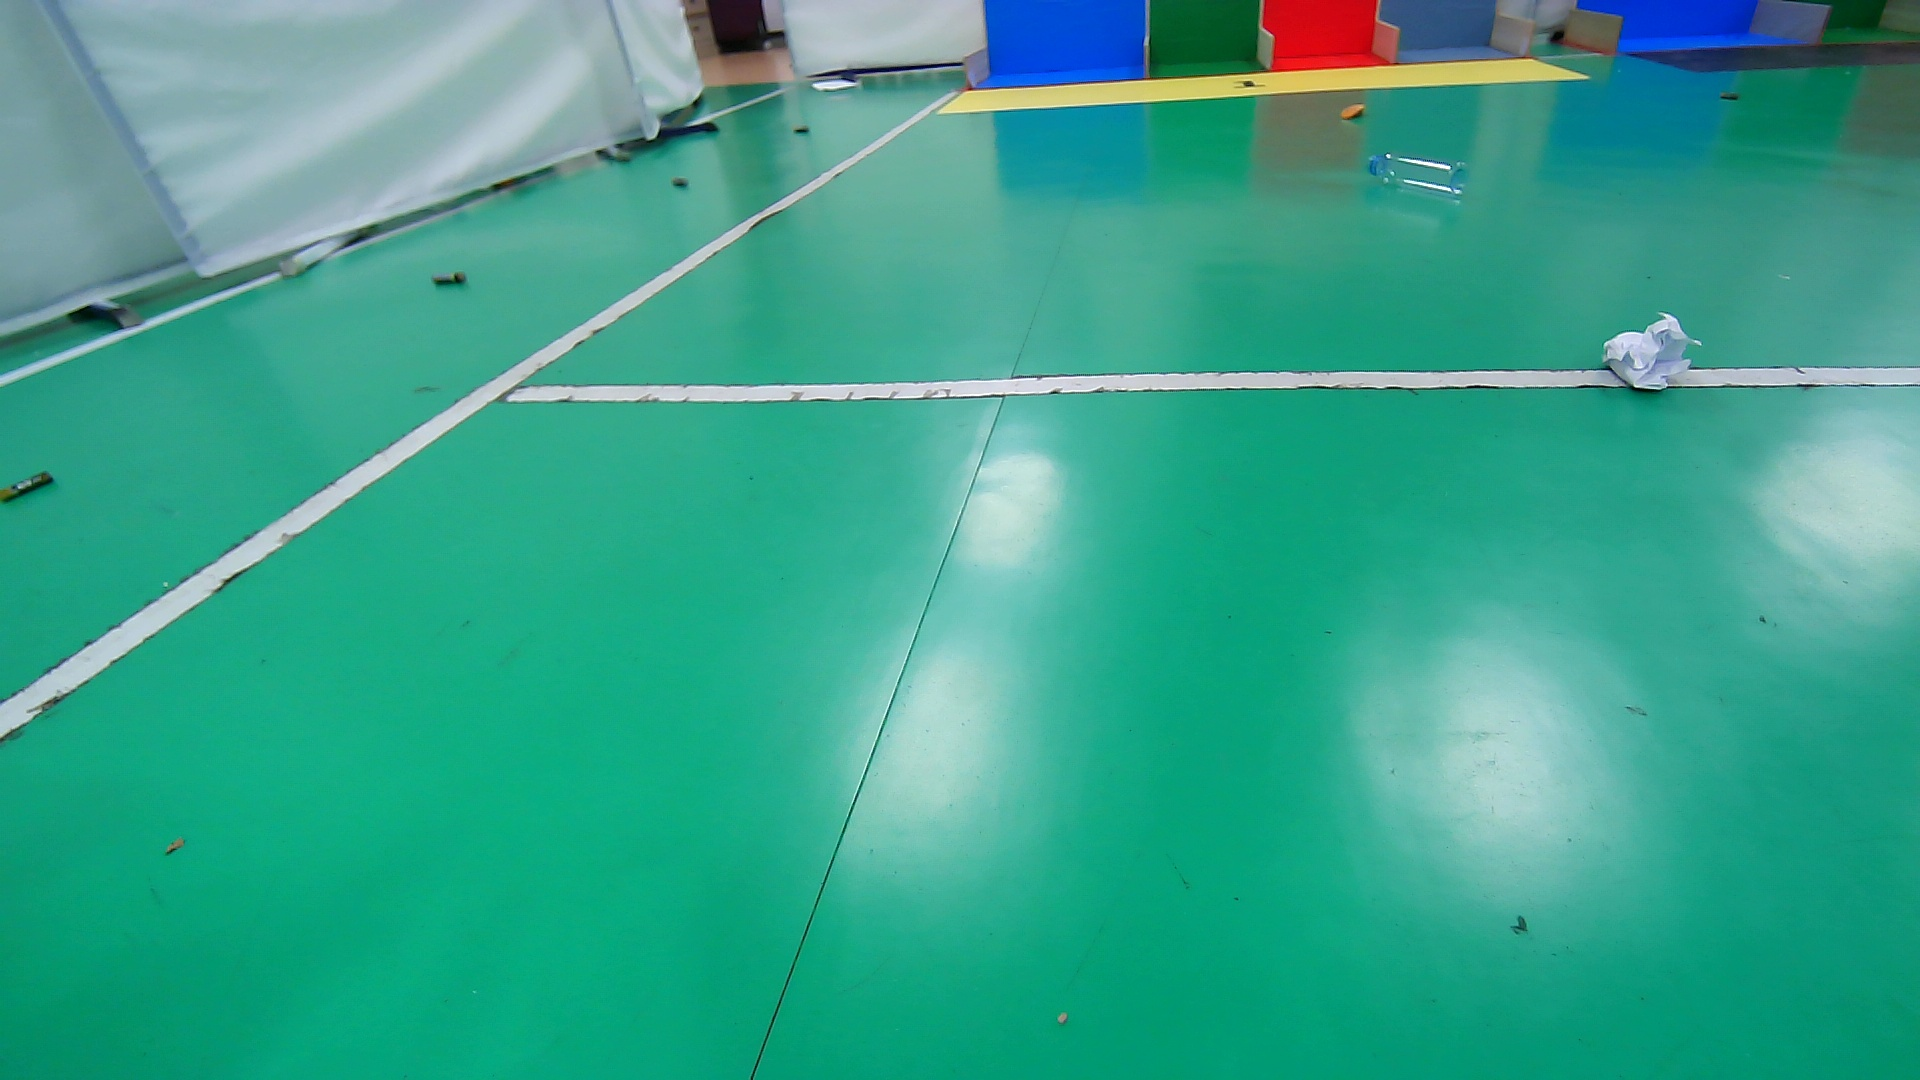battery: (1, 462, 76, 518), (414, 253, 483, 306), (655, 162, 705, 203), (779, 111, 823, 149), (1709, 82, 1753, 111)
bottle: (1360, 146, 1481, 207)
orangepeel: (1331, 96, 1377, 127)
spitball: (1597, 309, 1701, 400)
